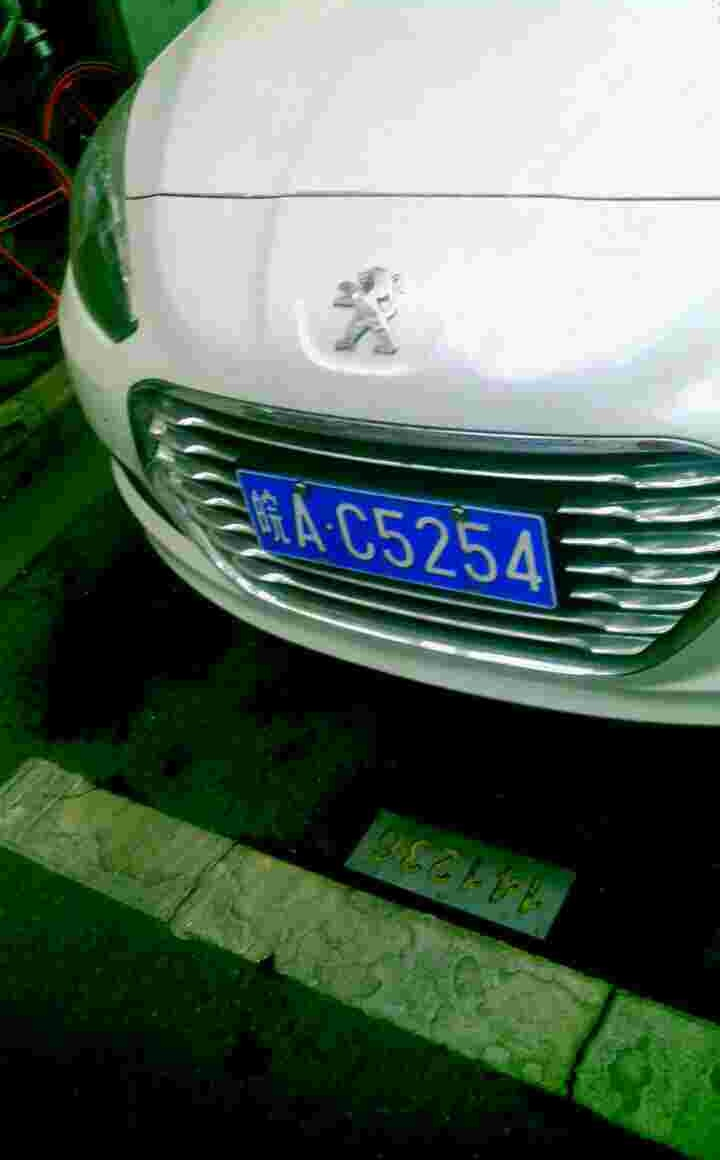car_blue: (233, 464, 567, 618)
